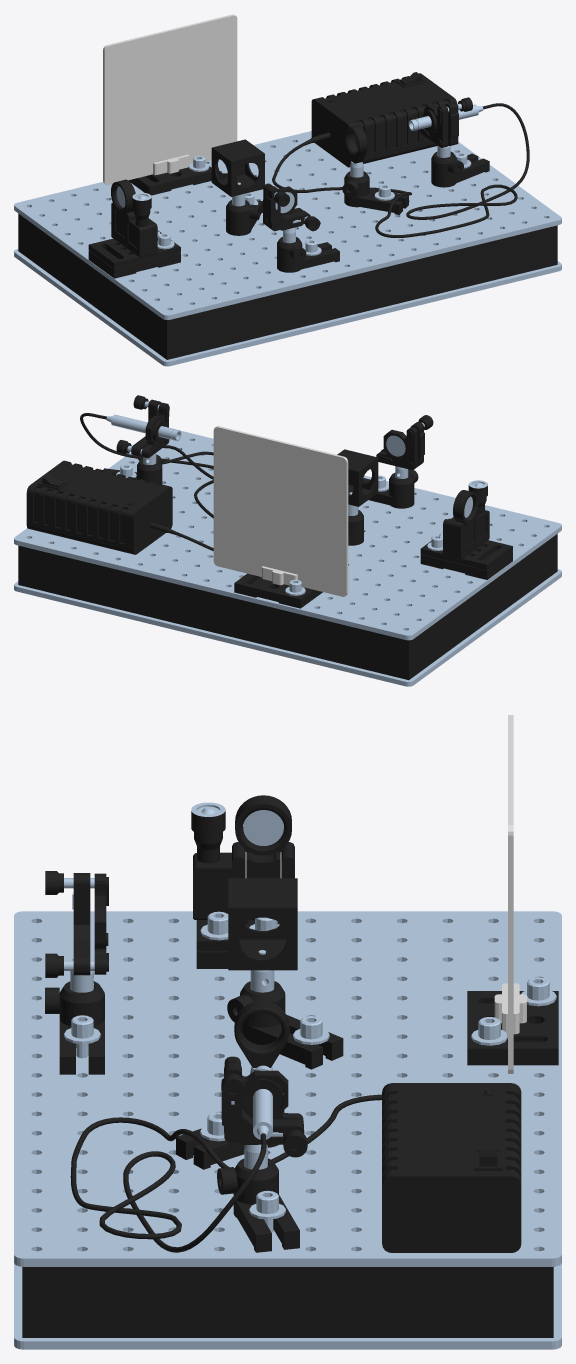
3 views of the same model, one above another, from view 1: azimuth 30°, elevation 25°; view 2: azimuth 150°, elevation 25°; view 3: azimuth 270°, elevation 25° (orthographic). The views are drawn at different scales.
Parts seen in each view (by area): view 1: Base, Schirm, SD5, TranslateMirror, Laser, Mirror1; view 2: Base, Schirm, SD5, TranslateMirror, Mirror1, Laser; view 3: Base, SD5, Laser, TranslateMirror, Mirror1, Schirm.
Boxes of the visible parts, box(x1,y1,x2,y2) form: Base: box(14, 103, 561, 366); Schirm: box(103, 14, 237, 195); SD5: box(311, 72, 457, 167); TranslateMirror: box(88, 179, 180, 278); Laser: box(408, 97, 489, 187); Mirror1: box(263, 183, 339, 272); Base: box(14, 413, 561, 686); Schirm: box(213, 426, 348, 608); SD5: box(26, 460, 172, 554); TranslateMirror: box(420, 480, 512, 579); Mirror1: box(362, 415, 433, 508); Laser: box(103, 395, 181, 485); Base: box(14, 878, 561, 1349); SD5: box(382, 1083, 521, 1252); Laser: box(217, 1056, 307, 1252); TranslateMirror: box(191, 795, 294, 968); Mirror1: box(45, 871, 108, 1074); Schirm: box(467, 715, 558, 1073).
Bounding box in the file's own units: 4.75 × 2.16 × 3.
